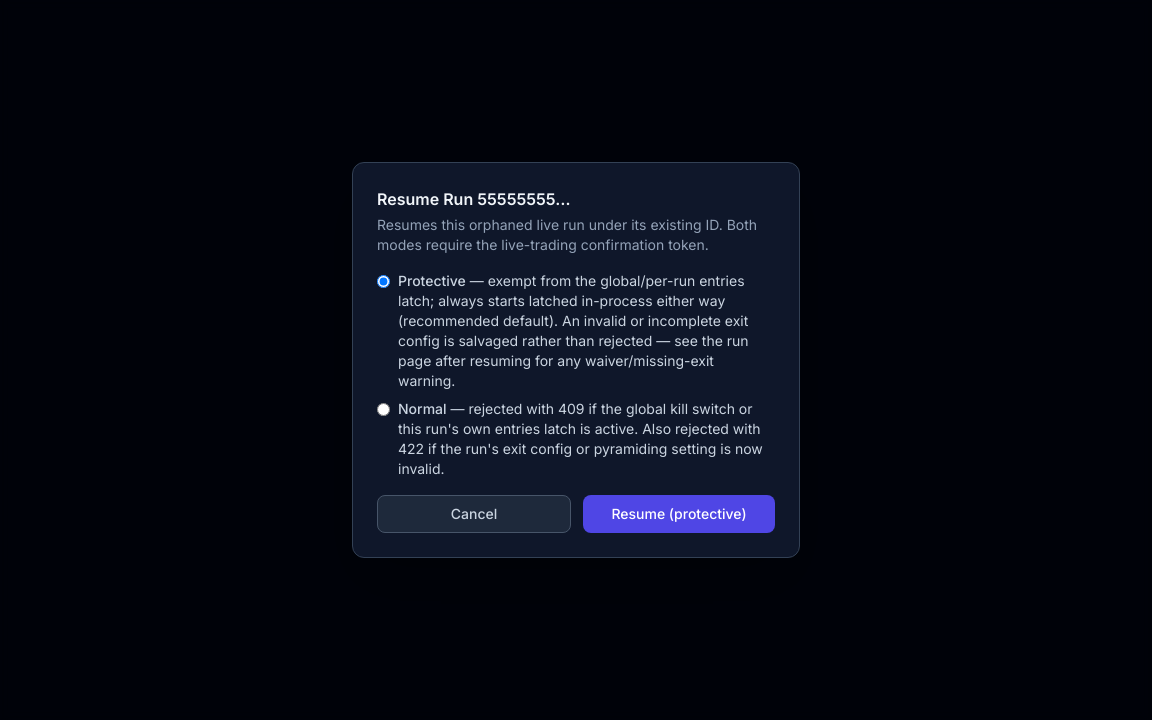
ResumeRunDialog — structured exit-config 422 (normal mode) › renders invalid_exit_config errors
Click the radio button labelled "Normal" at (384, 410), box [377, 403, 390, 416]
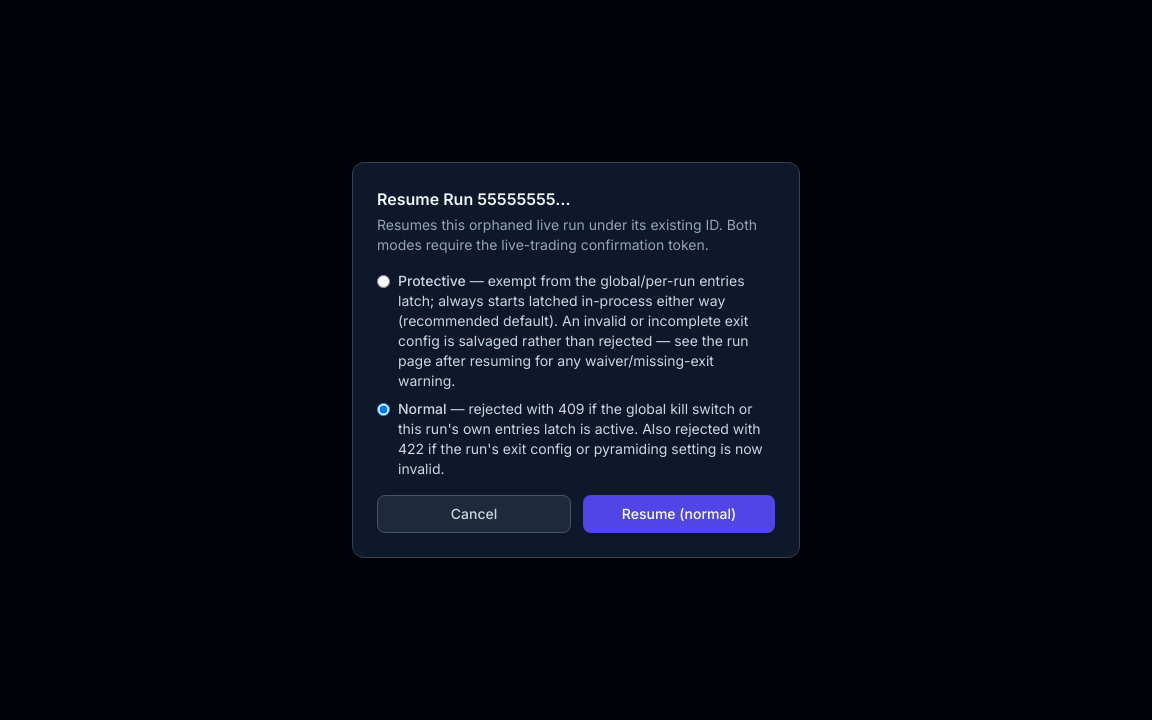
Click the button "Resume (normal)" at (679, 514), box [583, 495, 775, 533]
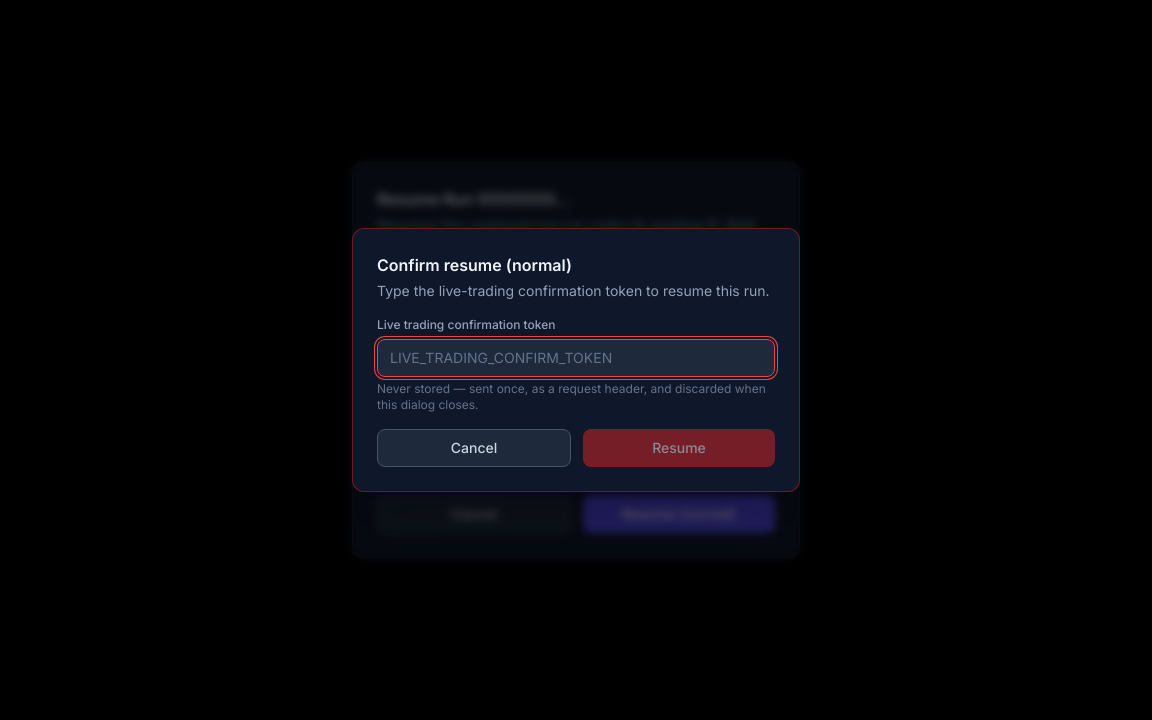
Type "typed-secret" into the password field labelled "Live trading confirmation token" at (576, 358), box [377, 339, 775, 377]
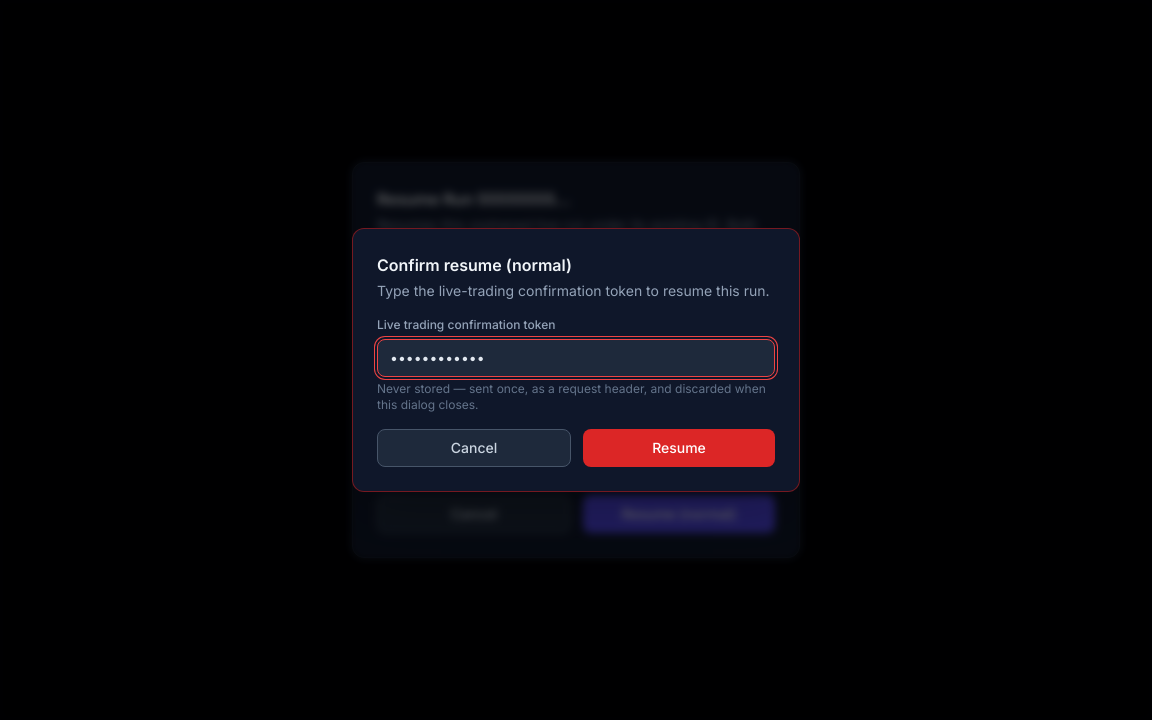
Click the button "Resume" at (679, 448), box [583, 429, 775, 467]
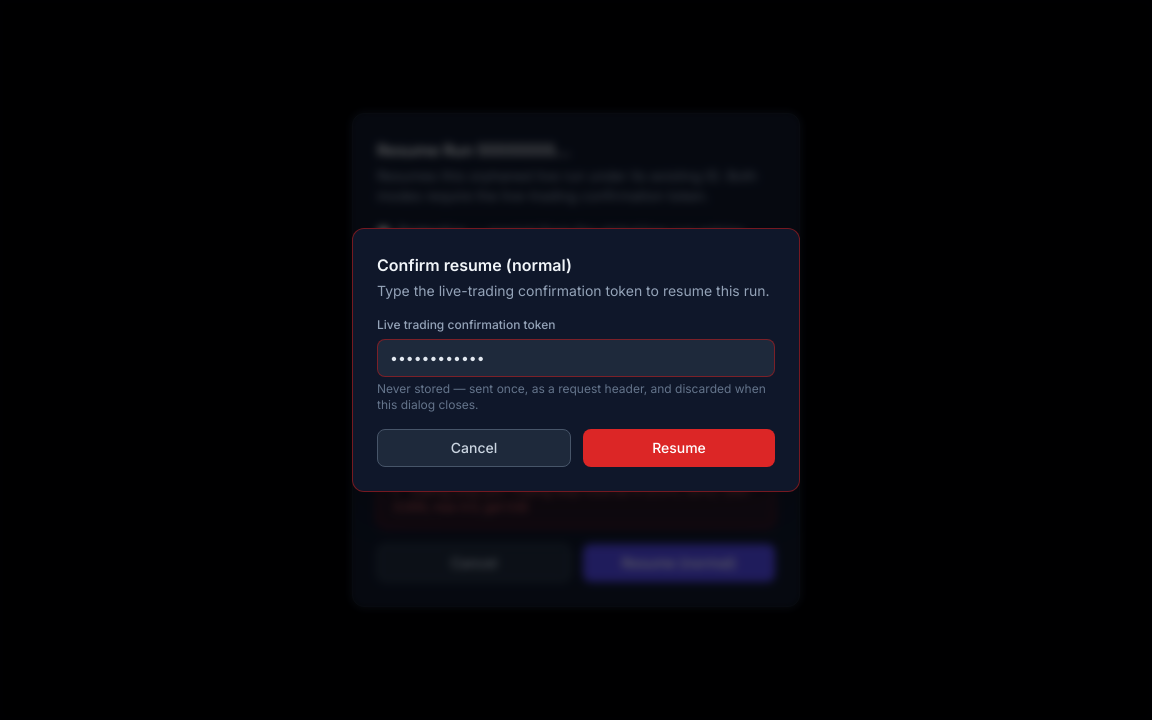
Expected: the text "Invalid exit configuration" is shown, [394, 456, 561, 473]
Expected: the list item "Trailing stop must be in" is shown, [394, 483, 749, 514]
